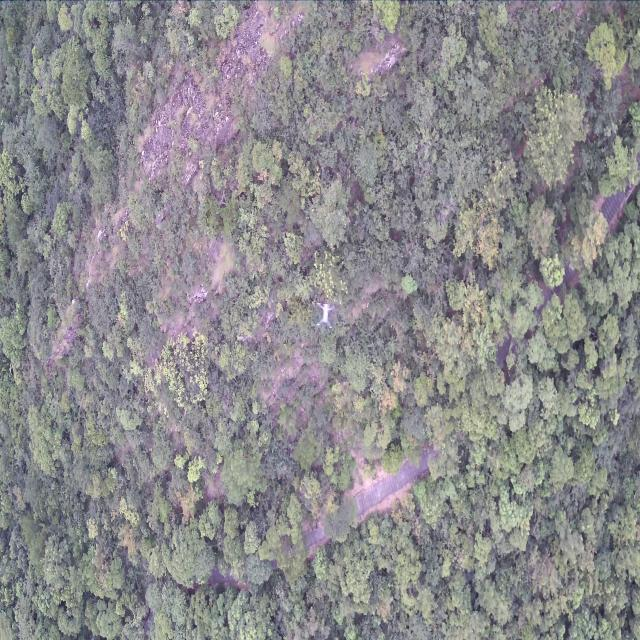UAV: (316, 302, 334, 328)
